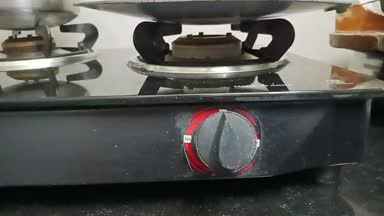noflame_gason: (126, 20, 305, 178)
